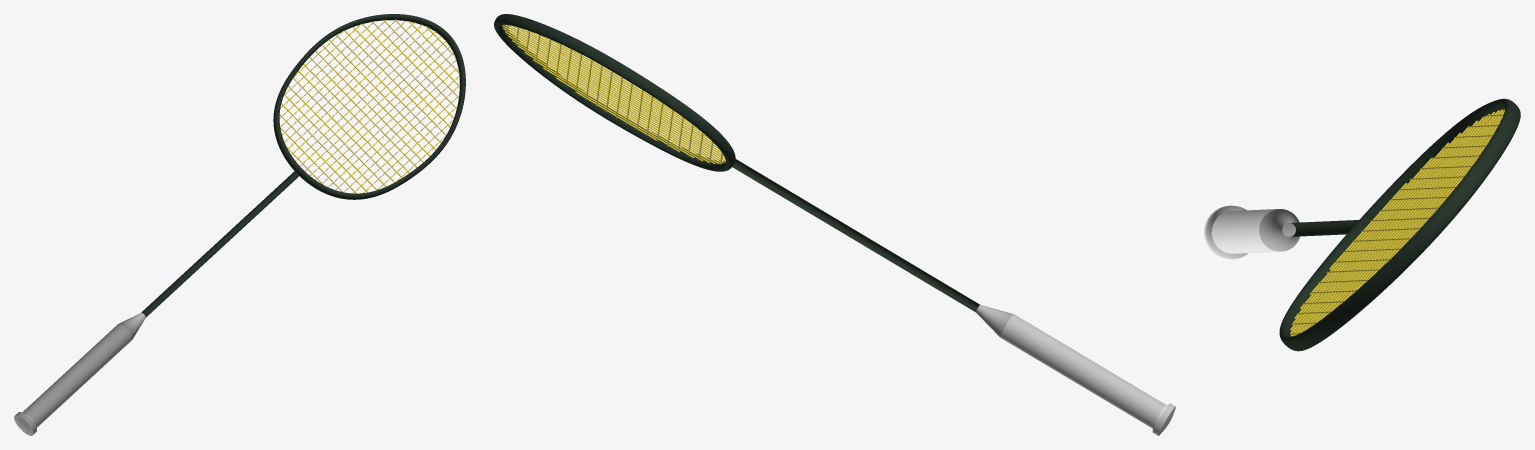
Rendered from racket.dae.
3 renders of one model, left to right at view 1: azimuth 30°, elevation 25°; view 2: azimuth 150°, elevation 25°; view 3: azimuth 270°, elevation 25°, orthographic. The views are drawn at different scales.
Visible parts, largest first — view 1: Griff, Kopf; view 2: Griff, Kopf; view 3: Kopf, Griff, Saite.030, Saite.043, Saite.042, Saite.028, Saite.029, Saite.027, Saite.041, Saite.040, Saite.026, Saite.039 (+6 smaller).
Boxes of the visible parts, bbox=[...] form: Griff: bbox=[14, 171, 298, 435]; Kopf: bbox=[273, 14, 465, 199]; Griff: bbox=[731, 159, 1175, 435]; Kopf: bbox=[494, 14, 735, 171]; Kopf: bbox=[1279, 98, 1520, 351]; Griff: bbox=[1204, 205, 1358, 259]; Saite.030: bbox=[1293, 111, 1494, 335]; Saite.043: bbox=[1303, 109, 1503, 331]; Saite.042: bbox=[1298, 110, 1499, 334]; Saite.028: bbox=[1290, 116, 1484, 333]; Saite.029: bbox=[1290, 114, 1490, 336]; Saite.027: bbox=[1290, 120, 1478, 330]; Saite.041: bbox=[1310, 109, 1504, 327]; Saite.040: bbox=[1318, 114, 1503, 321]; Saite.026: bbox=[1291, 126, 1469, 325]; Saite.039: bbox=[1326, 120, 1500, 315].
Bounding box in the file's own units: 41.94 × 11.82 × 22.16.
